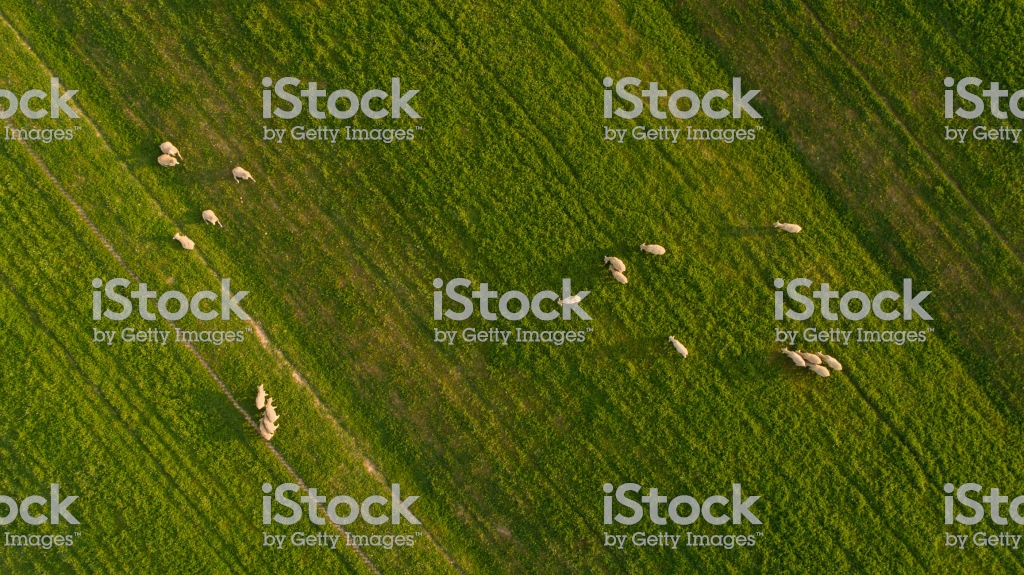sheep: (777, 345, 806, 369), (556, 286, 592, 305), (817, 350, 845, 372), (668, 333, 689, 359), (770, 219, 802, 236), (172, 229, 194, 251), (200, 207, 223, 228), (602, 253, 627, 272), (263, 396, 281, 422), (637, 241, 666, 257), (232, 165, 255, 185), (803, 360, 829, 377), (154, 151, 179, 168), (253, 381, 268, 409), (157, 141, 180, 156)
